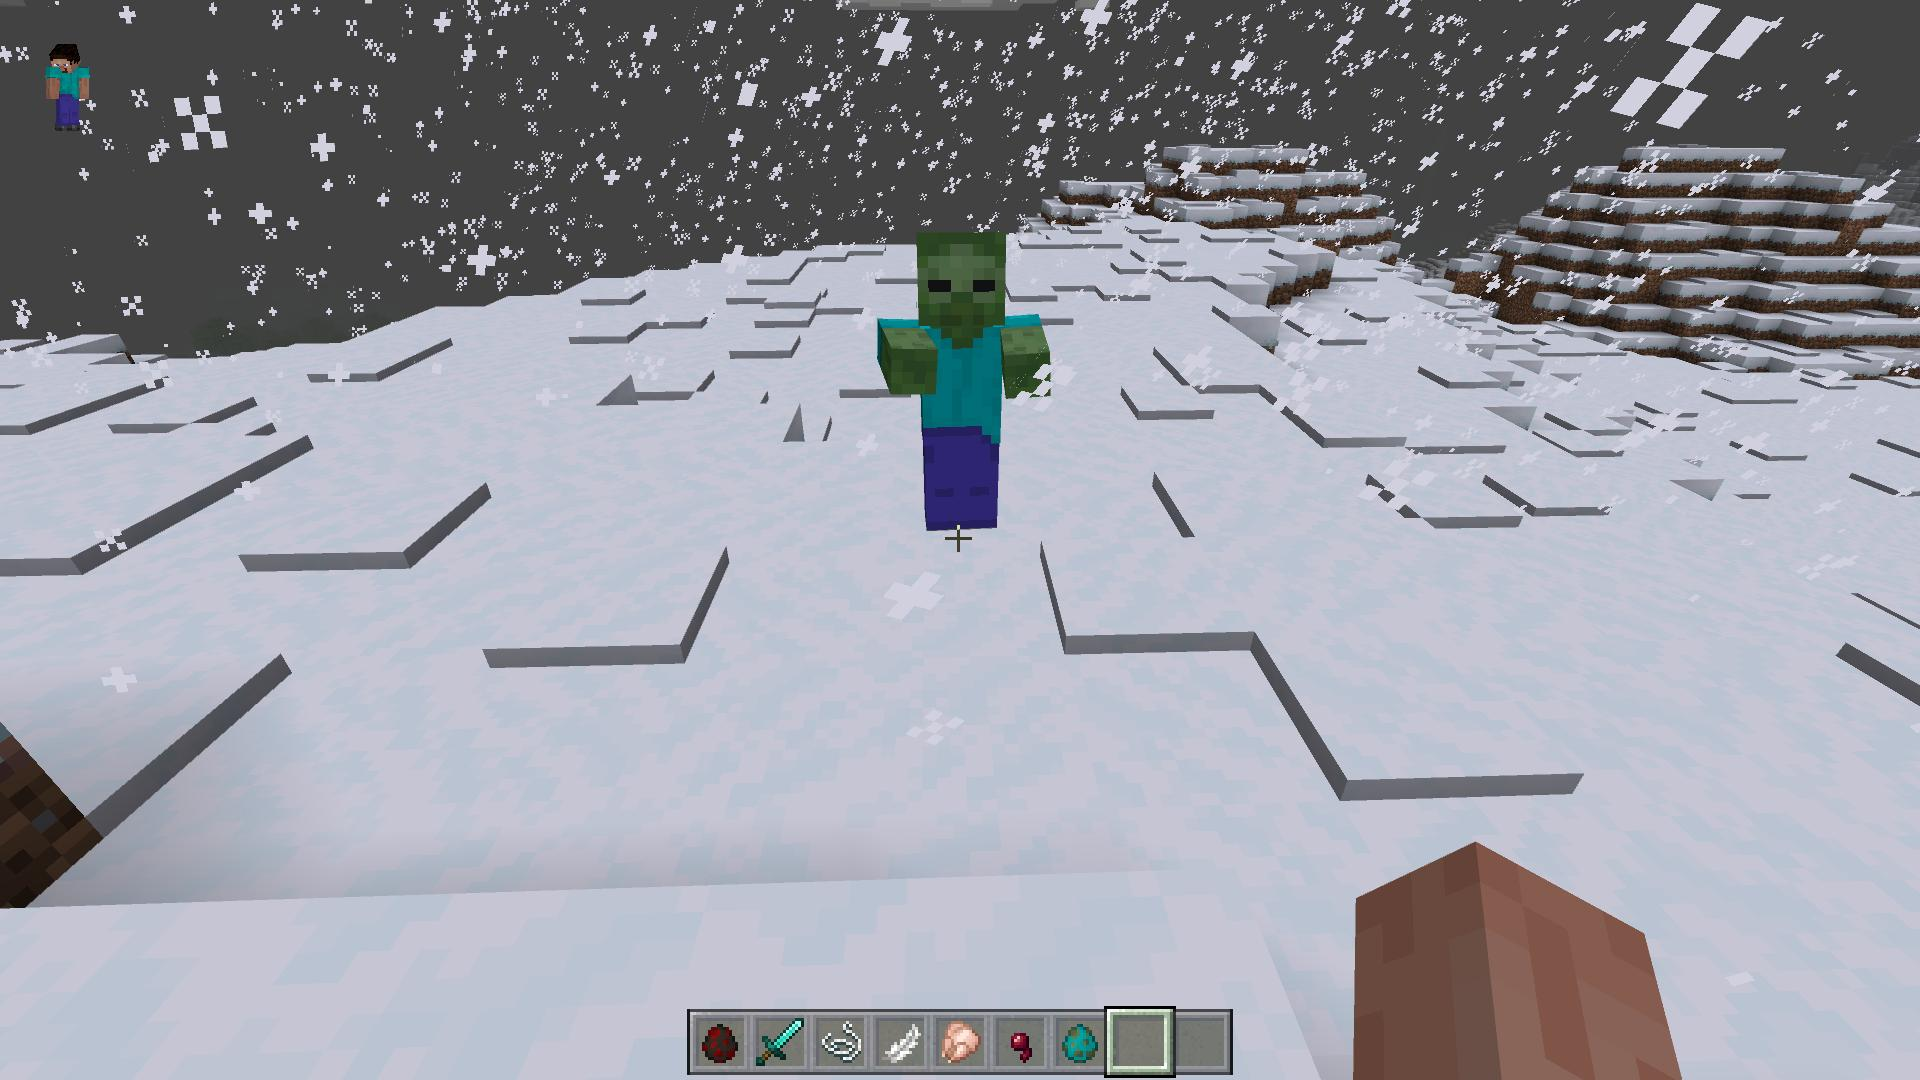zombie: (877, 232, 1052, 530)
